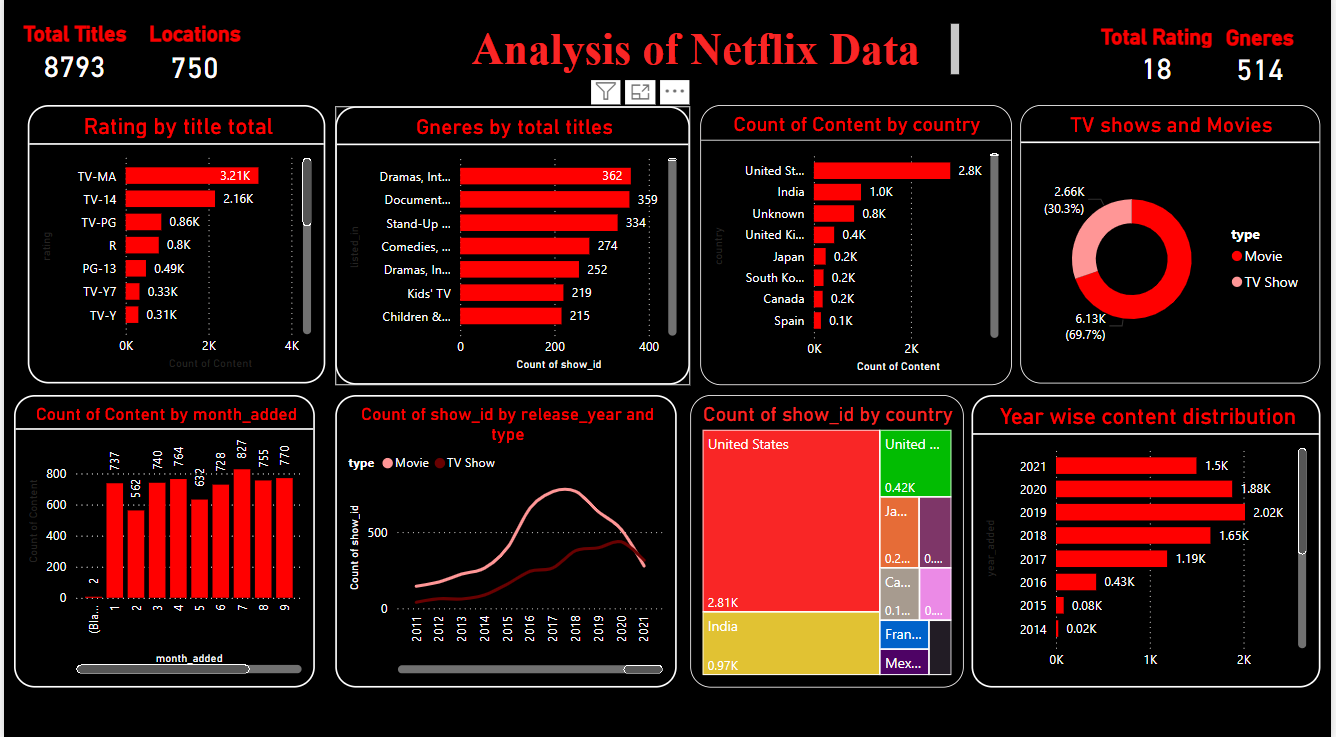

The page's visual inventory and layout, read from the dashboard file:
{"tool":"powerbi","page":{"name":"Dashboard","canvas":[1280,720],"ordinal":8},"visuals":[{"type":"treemap","fields":{"Group":["netflix_cleaned.country"],"Values":["Count(netflix_cleaned.show_id)"]},"box":[662.3,386.1,264.2,282.3],"z":0},{"type":"areaChart","fields":{"Category":["netflix_cleaned.release_year"],"Y":["Count(netflix_cleaned.show_id)"],"Series":["netflix_cleaned.type"]},"box":[319.7,386.1,329.4,282.3],"z":1},{"type":"barChart","title":"Rating by title total","fields":{"Category":["netflix_cleaned.rating"],"Y":["CountNonNull(netflix_cleaned.Content)"]},"box":[22.9,86.9,287.1,288.3],"z":2},{"type":"barChart","title":"Gneres by total titles","fields":{"Y":["CountNonNull(netflix_cleaned.show_id)"],"Category":["netflix_cleaned.listed_in"]},"box":[319.7,86.9,342.6,288.3],"z":3},{"type":"barChart","fields":{"Y":["CountNonNull(netflix_cleaned.title)"],"Category":["netflix_cleaned.country"]},"box":[672,86.9,300.4,289.5],"z":4},{"type":"columnChart","fields":{"Category":["netflix_cleaned.month_added"],"Y":["CountNonNull(netflix_cleaned.title)"]},"box":[9.7,386.1,290.8,282.3],"z":5},{"type":"donutChart","title":"TV shows and Movies","fields":{"Y":["Count(netflix_cleaned.show_id)"],"Category":["netflix_cleaned.type"]},"box":[980.8,86.9,289.5,288.3],"z":6},{"type":"barChart","title":"Year wise content distribution","fields":{"Y":["CountNonNull(netflix_cleaned.title)"],"Category":["netflix_cleaned.year_added"]},"box":[933.8,386.1,336.6,282.3],"z":7},{"type":"textbox","box":[423.5,14.5,510.3,59.1],"z":8}]}

Visuals, with their boxes in screenshot pixels (x1, y1, x2, y2), scaled from the page's 1280x720 canvas onto the 1336x737 screenshot:
treemap - netflix_cleaned.country x Count(netflix_cleaned.show_id): rect(691, 395, 967, 684)
areaChart - netflix_cleaned.release_year x Count(netflix_cleaned.show_id): rect(334, 395, 677, 684)
"Rating by title total" barChart: rect(24, 89, 324, 384)
"Gneres by total titles" barChart: rect(334, 89, 691, 384)
barChart - CountNonNull(netflix_cleaned.title) x netflix_cleaned.country: rect(701, 89, 1015, 385)
columnChart - netflix_cleaned.month_added x CountNonNull(netflix_cleaned.title): rect(10, 395, 314, 684)
"TV shows and Movies" donutChart: rect(1024, 89, 1326, 384)
"Year wise content distribution" barChart: rect(975, 395, 1326, 684)
textbox: rect(442, 15, 975, 75)
